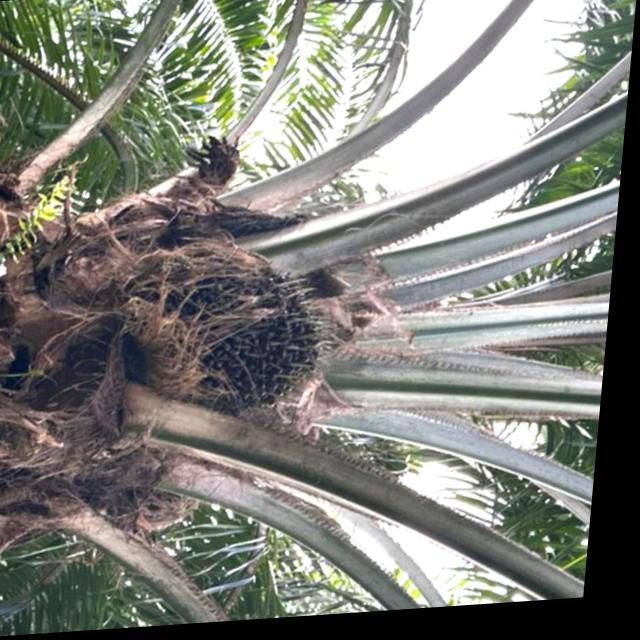almost: (117, 232, 347, 440)
